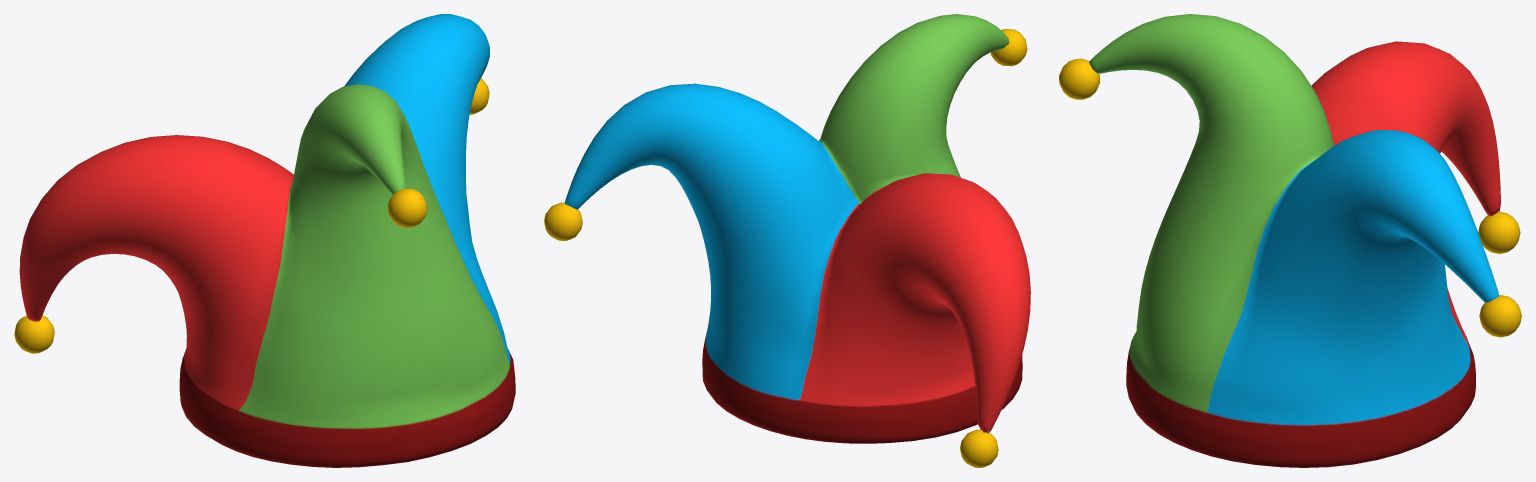
The model's file is Joke hat.fbx.
3 renders of one model, left to right at view 1: azimuth 30°, elevation 25°; view 2: azimuth 150°, elevation 25°; view 3: azimuth 270°, elevation 25°, orthographic. The views are drawn at different scales.
Visible parts, largest first — view 1: Joke Hat; view 2: Joke Hat; view 3: Joke Hat.
Part boxes in pixels (left/top/right/bottom): Joke Hat: left=14, top=14, right=515, bottom=467; Joke Hat: left=544, top=14, right=1030, bottom=467; Joke Hat: left=1059, top=14, right=1521, bottom=467.
Size of the model in its own units: 38.14 by 26.57 by 30.68.
